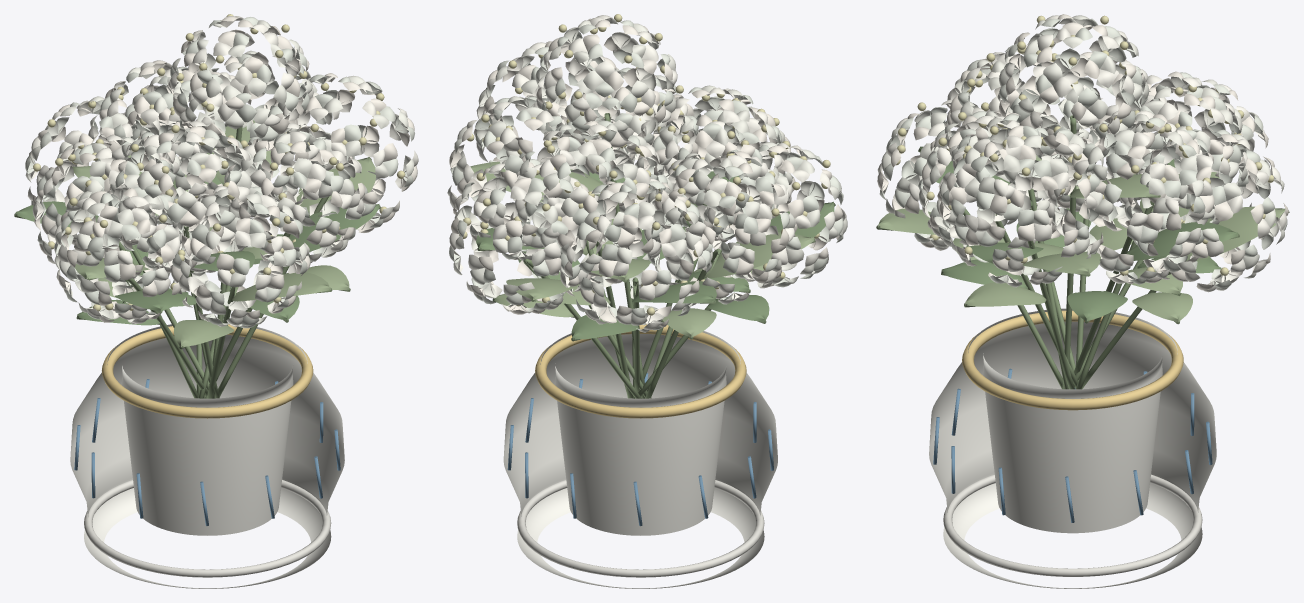
The model's file is hydrangea_bouquet_3d.glb.
3 views of the same model, side by side, from view 1: azimuth 30°, elevation 25°; view 2: azimuth 150°, elevation 25°; view 3: azimuth 270°, elevation 25° (orthographic). The views are drawn at different scales.
Parts seen in each view (by area): view 1: 3D_porcelain, 3D_cream2, 3D_cream, 3D_cream4, 3D_cream3, 3D_leaf2, 3D_stem, 3D_gilt, 3D_leaf1, 3D_centre, 3D_ceramic_dark, 3D_blue; view 2: 3D_porcelain, 3D_cream2, 3D_cream4, 3D_cream, 3D_cream3, 3D_leaf2, 3D_leaf1, 3D_stem, 3D_gilt, 3D_centre, 3D_ceramic_dark, 3D_blue; view 3: 3D_porcelain, 3D_cream3, 3D_cream2, 3D_cream, 3D_cream4, 3D_leaf2, 3D_stem, 3D_leaf1, 3D_gilt, 3D_ceramic_dark, 3D_centre, 3D_blue.
Boxes of the visible parts, x1=… form: 3D_porcelain: x1=70, y1=324, x2=344, y2=588; 3D_cream2: x1=25, y1=20, x2=414, y2=326; 3D_cream: x1=28, y1=16, x2=418, y2=323; 3D_cream4: x1=29, y1=16, x2=417, y2=327; 3D_cream3: x1=25, y1=17, x2=414, y2=328; 3D_leaf2: x1=72, y1=120, x2=375, y2=347; 3D_stem: x1=14, y1=126, x2=380, y2=398; 3D_gilt: x1=101, y1=324, x2=313, y2=418; 3D_leaf1: x1=15, y1=153, x2=379, y2=325; 3D_centre: x1=33, y1=14, x2=405, y2=312; 3D_ceramic_dark: x1=84, y1=480, x2=331, y2=577; 3D_blue: x1=74, y1=379, x2=340, y2=525; 3D_porcelain: x1=503, y1=331, x2=777, y2=588; 3D_cream2: x1=447, y1=18, x2=847, y2=332; 3D_cream4: x1=449, y1=18, x2=842, y2=327; 3D_cream: x1=449, y1=15, x2=846, y2=329; 3D_cream3: x1=449, y1=20, x2=843, y2=330; 3D_leaf2: x1=470, y1=161, x2=814, y2=337; 3D_leaf1: x1=476, y1=156, x2=834, y2=339; 3D_stem: x1=477, y1=113, x2=835, y2=398; 3D_gilt: x1=535, y1=324, x2=746, y2=418; 3D_centre: x1=459, y1=14, x2=830, y2=315; 3D_ceramic_dark: x1=517, y1=480, x2=764, y2=577; 3D_blue: x1=507, y1=373, x2=773, y2=526; 3D_porcelain: x1=929, y1=308, x2=1216, y2=588; 3D_cream3: x1=879, y1=18, x2=1287, y2=288; 3D_cream2: x1=881, y1=15, x2=1284, y2=290; 3D_cream: x1=877, y1=15, x2=1286, y2=292; 3D_cream4: x1=877, y1=14, x2=1288, y2=290; 3D_leaf2: x1=877, y1=155, x2=1285, y2=322; 3D_stem: x1=876, y1=115, x2=1289, y2=389; 3D_leaf1: x1=920, y1=146, x2=1238, y2=321; 3D_gilt: x1=962, y1=310, x2=1183, y2=410; 3D_ceramic_dark: x1=943, y1=474, x2=1202, y2=576; 3D_centre: x1=896, y1=15, x2=1273, y2=275; 3D_blue: x1=933, y1=368, x2=1212, y2=522.
Bounding box in the file's own units: 0.5658 × 0.7937 × 0.5513.
